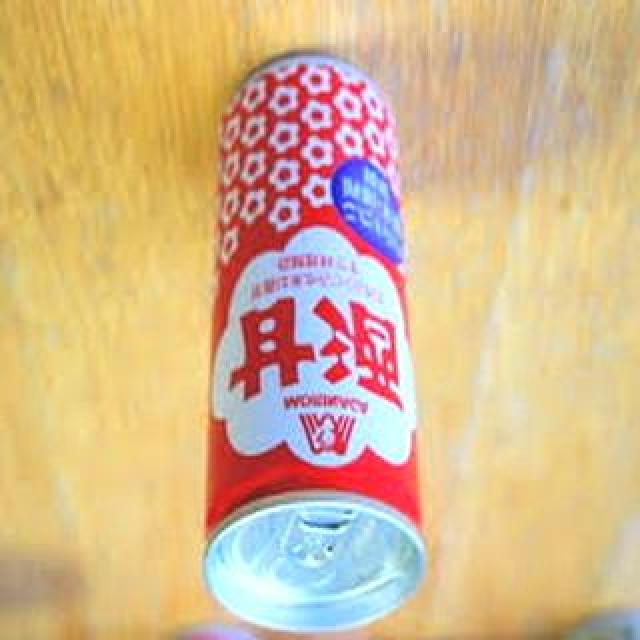Can: (201, 53, 429, 631)
